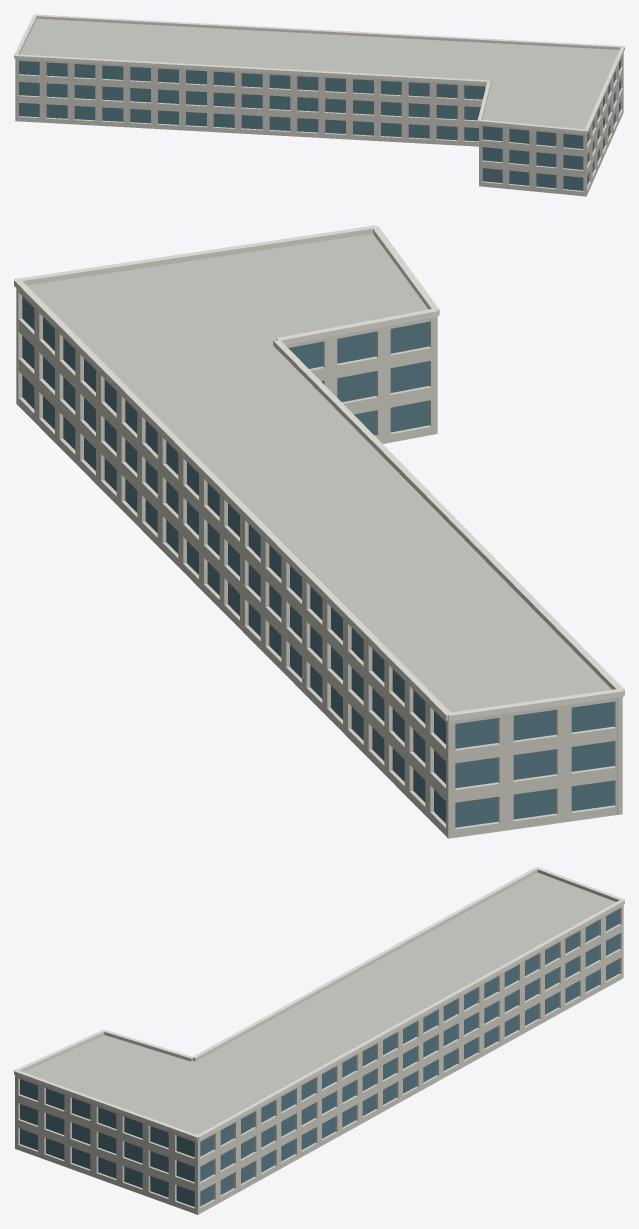
Rendered from sb_1556523927.far.glb.
3 renders of one model, top to bottom at view 1: azimuth 30°, elevation 25°; view 2: azimuth 150°, elevation 25°; view 3: azimuth 270°, elevation 25°, orthographic. The views are drawn at different scales.
Visible parts, largest first — view 1: roof, wall, glass, trim; view 2: roof, wall, glass, trim; view 3: roof, wall, glass, trim.
Boxes of the visible parts, box(x1,y1,x2,y2) form: roof: box(19, 18, 619, 129); wall: box(15, 53, 623, 196); glass: box(19, 59, 620, 190); trim: box(14, 14, 624, 134); roof: box(27, 234, 611, 712); wall: box(16, 288, 622, 838); glass: box(22, 296, 614, 827); trim: box(14, 225, 624, 721); roof: box(23, 872, 615, 1134); wall: box(15, 905, 623, 1214); glass: box(20, 909, 619, 1206); trim: box(14, 867, 624, 1140).
Size of the model in its own units: 72.34 by 9.74 by 69.08.
